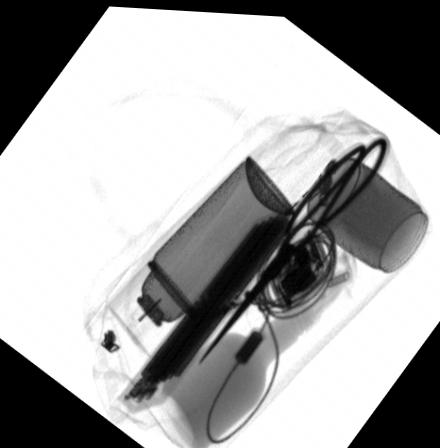Lighter: (260, 236, 300, 310)
Powerbank: (116, 199, 305, 403)
Scissors: (193, 130, 390, 359)
Sprayer: (99, 145, 300, 356)
